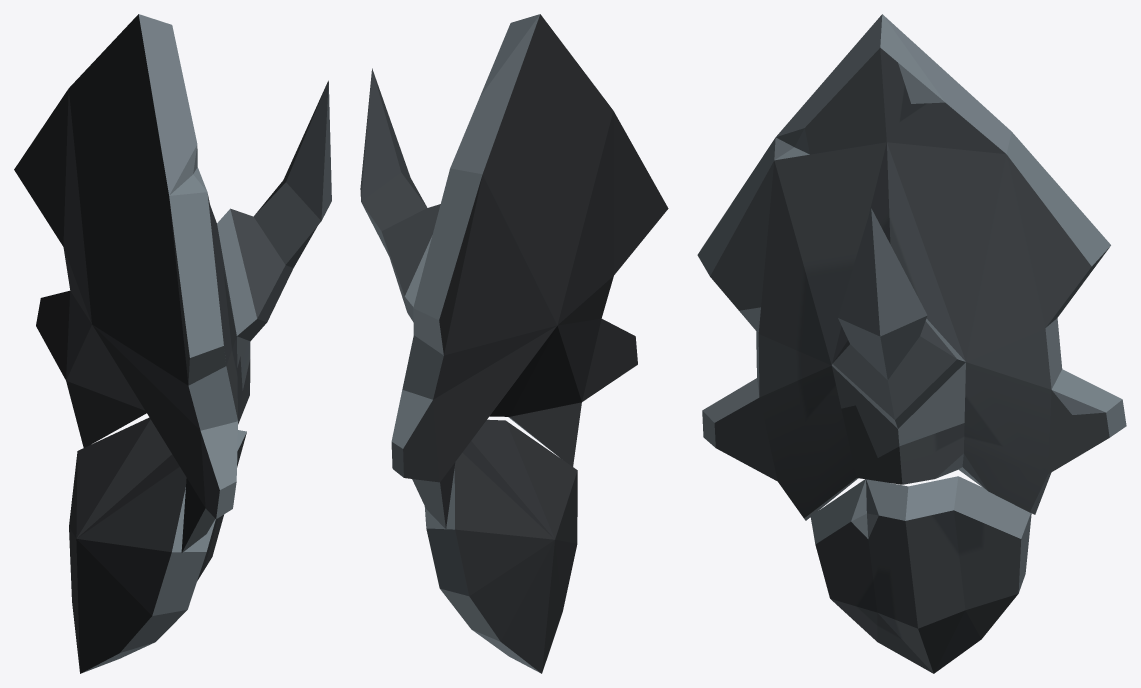
Rendered from SM_Chr_Attach_Armour_Dark_Leg_FL_Large_01.fbx.
3 renders of one model, left to right at view 1: azimuth 30°, elevation 25°; view 2: azimuth 150°, elevation 25°; view 3: azimuth 270°, elevation 25°, orthographic. The views are drawn at different scales.
Visible parts, largest first — view 1: SM_Chr_Attach_Armour_Dark_Leg_FL_Large_01; view 2: SM_Chr_Attach_Armour_Dark_Leg_FL_Large_01; view 3: SM_Chr_Attach_Armour_Dark_Leg_FL_Large_01.
Boxes of the visible parts, <box> form: SM_Chr_Attach_Armour_Dark_Leg_FL_Large_01: <box>14,14,331,673</box>; SM_Chr_Attach_Armour_Dark_Leg_FL_Large_01: <box>360,14,668,673</box>; SM_Chr_Attach_Armour_Dark_Leg_FL_Large_01: <box>697,14,1126,673</box>.
Bounding box in the file's own units: 11.9 × 32.62 × 19.11.
